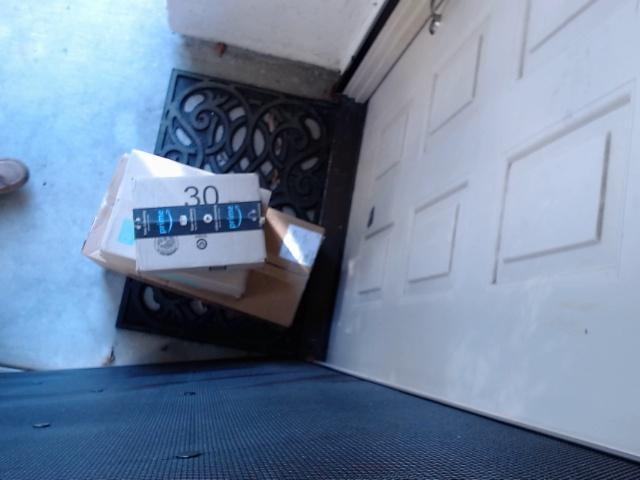box: (67, 140, 335, 327), (95, 141, 277, 294), (109, 162, 283, 277)
